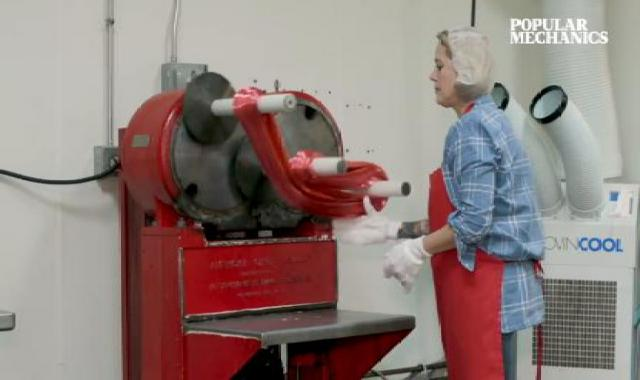hairnet: (431, 23, 512, 105)
